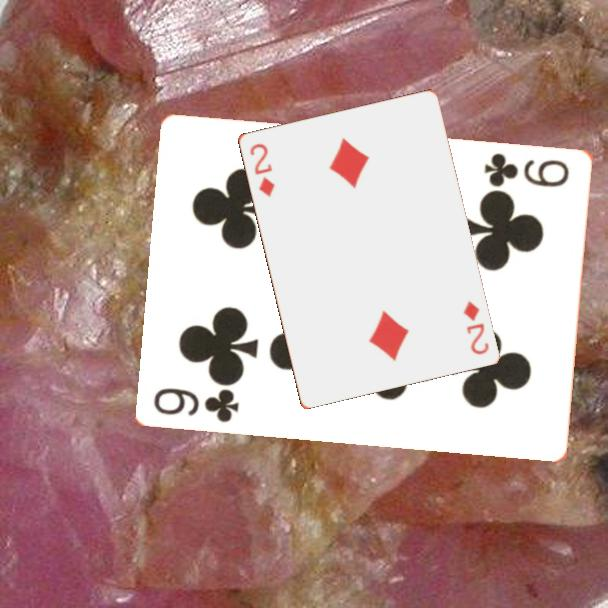c09: (150, 384, 243, 425), (481, 149, 573, 190)
d02: (459, 297, 491, 357), (246, 140, 277, 199)
